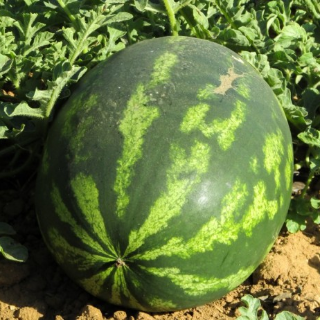dua_hau: (38, 34, 294, 314)
